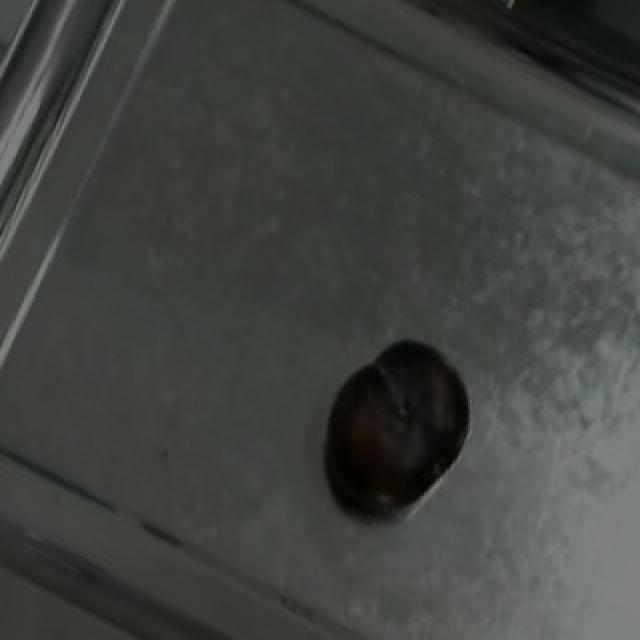Fruit: (310, 322, 488, 521)
